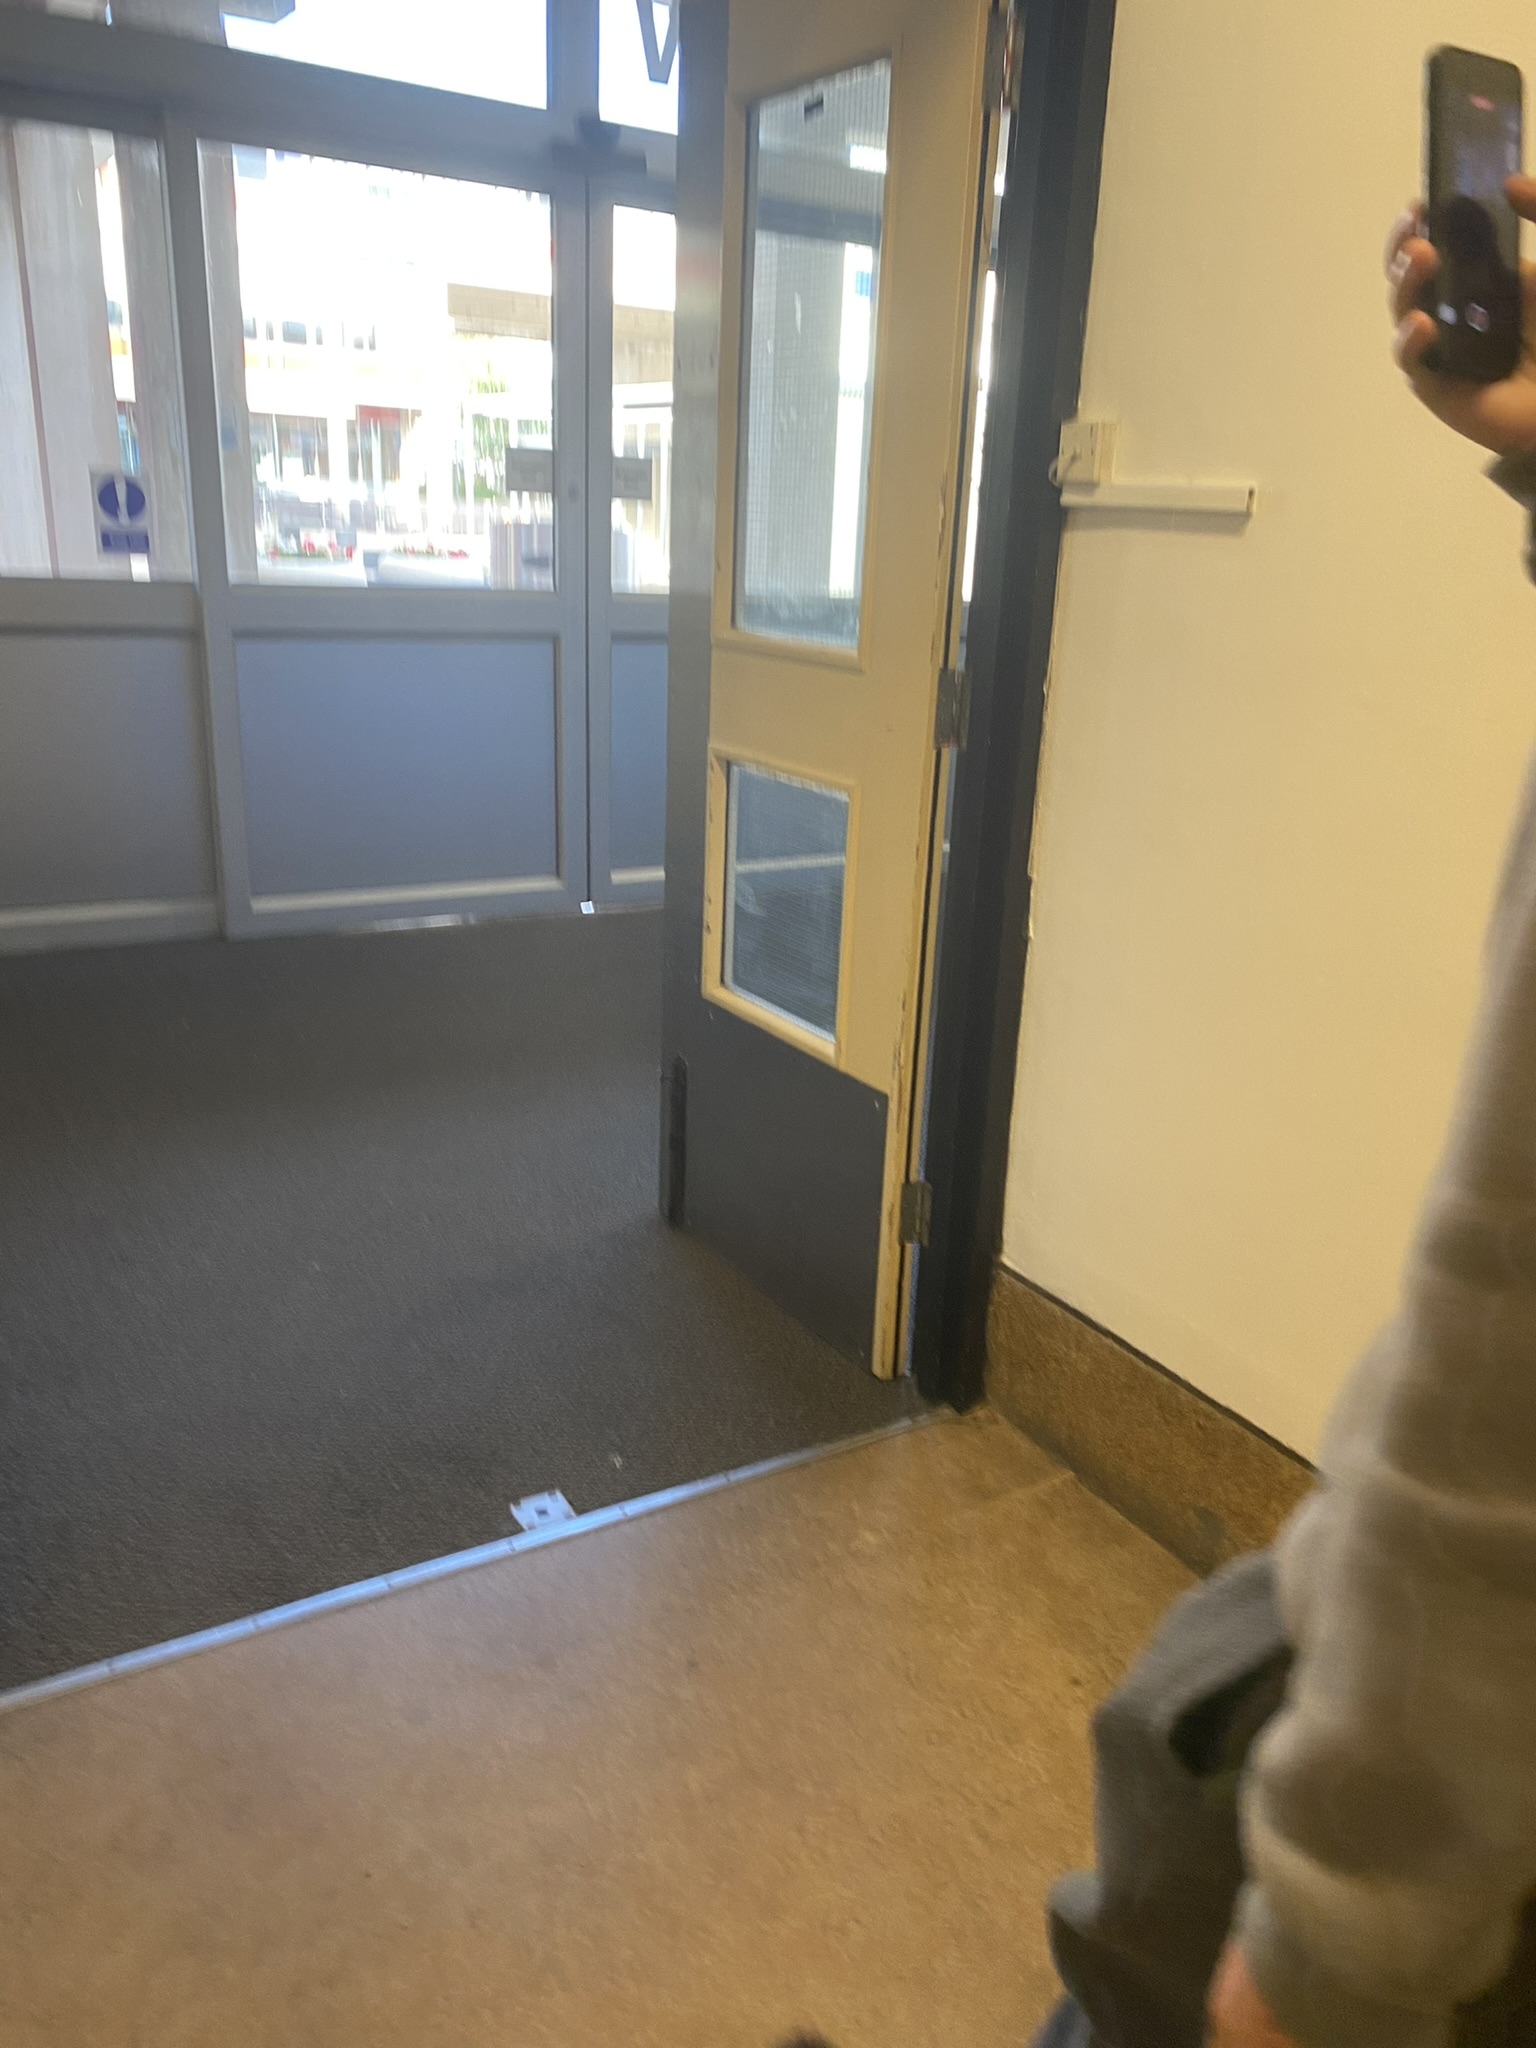automatic door: (160, 63, 1013, 918)
